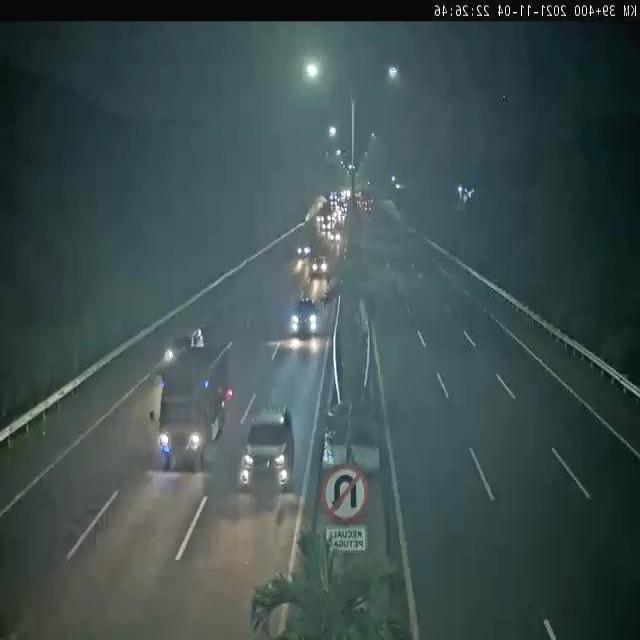Car: (240, 404, 300, 496), (287, 295, 322, 342), (310, 252, 334, 282), (294, 238, 316, 262), (330, 225, 343, 244)
Truck: (152, 342, 233, 474)
